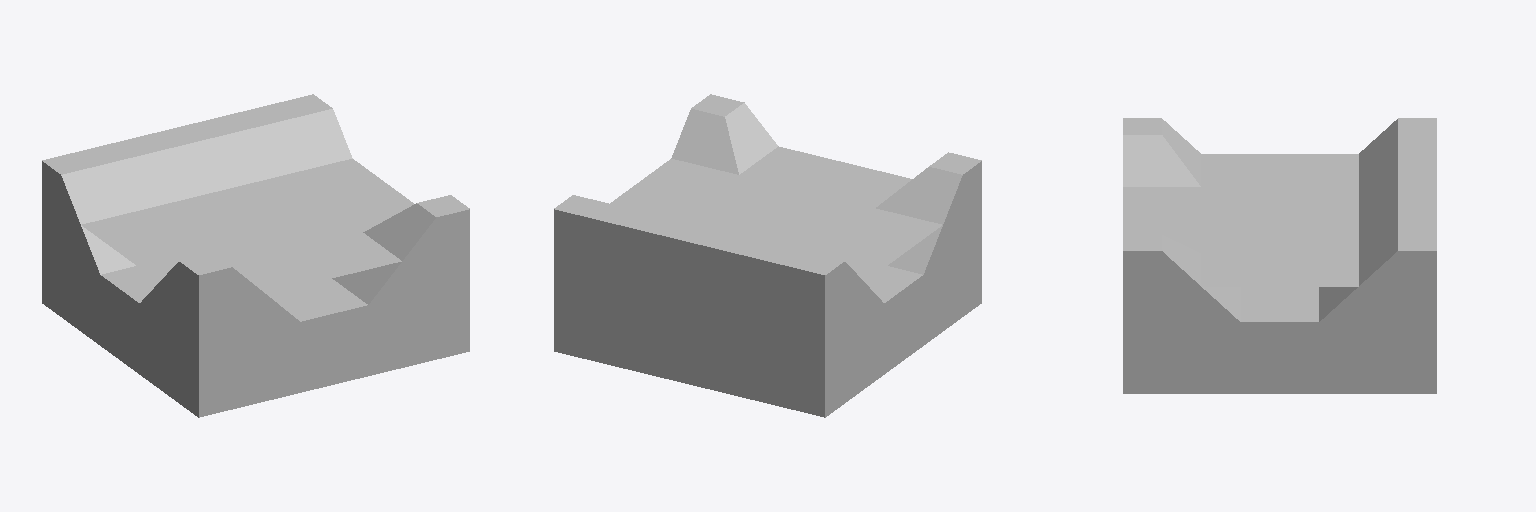
The model's file is river-junction.obj.
3 renders of one model, left to right at view 1: azimuth 30°, elevation 25°; view 2: azimuth 150°, elevation 25°; view 3: azimuth 270°, elevation 25°, orthographic.
Parts seen in each view (by area): view 1: grass, dirt, water; view 2: grass, dirt, water; view 3: grass, dirt, water.
Boxes of the visible parts, x1=… form: grass: x1=42, y1=94, x2=469, y2=346; dirt: x1=42, y1=232, x2=469, y2=417; water: x1=82, y1=159, x2=413, y2=293; grass: x1=554, y1=94, x2=981, y2=346; dirt: x1=554, y1=232, x2=981, y2=417; water: x1=610, y1=146, x2=941, y2=281; grass: x1=1123, y1=118, x2=1436, y2=321; dirt: x1=1123, y1=287, x2=1436, y2=393; water: x1=1123, y1=154, x2=1358, y2=286.
Bounding box in the file's own units: 0.25 × 0.125 × 0.25.